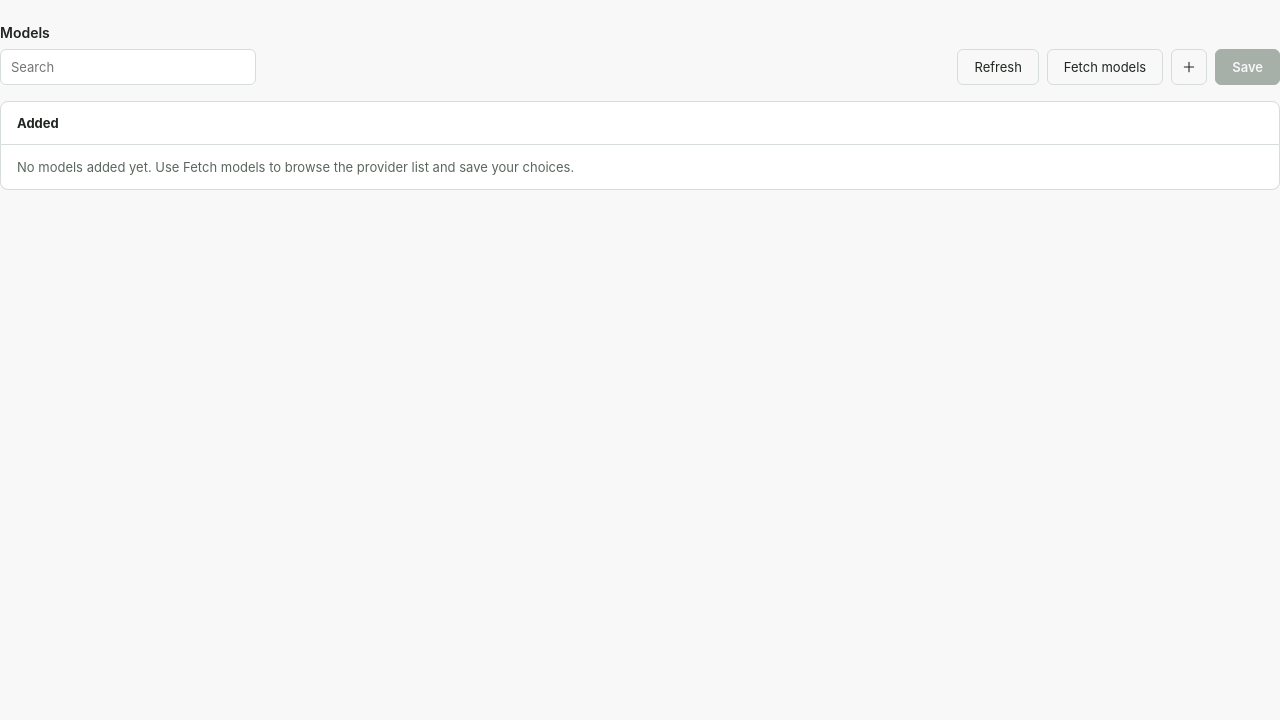
Test case: manual addition from upstream browse is saved and visible in added models
The image size is (1280, 720).
Click the button "Fetch models". click: (1105, 67)
box: x1=1047 y1=49 x2=1163 y2=85
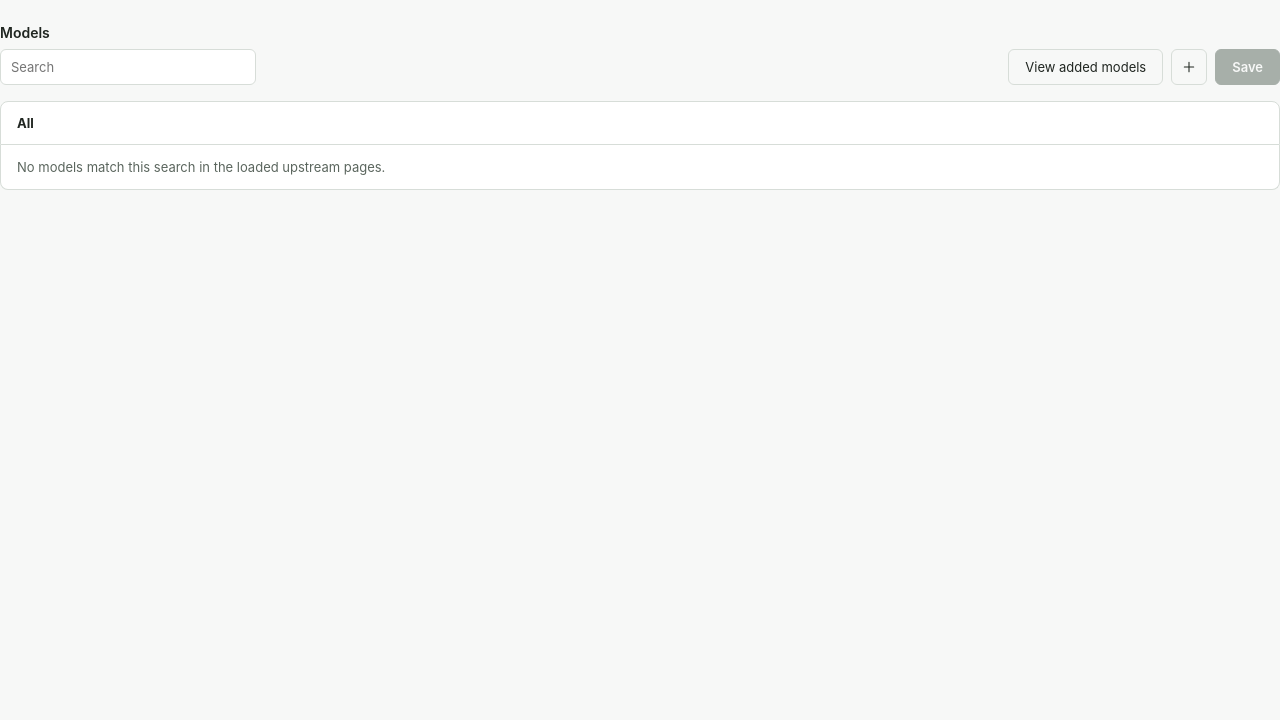
Check: the button "View added models" is shown, box x1=1008 y1=49 x2=1163 y2=85
Click the button named "Add a model manually". click: (1189, 67)
box: x1=1171 y1=49 x2=1207 y2=85
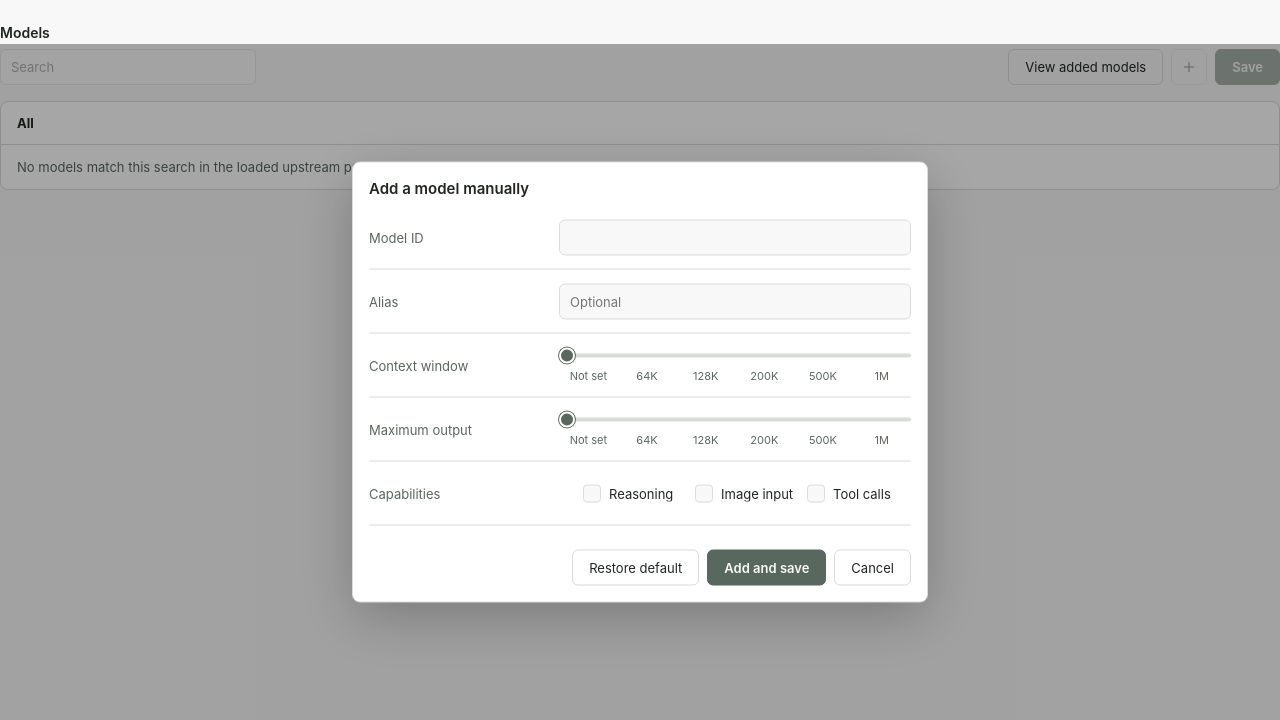
Type "vendor/manual" into the field labelled "Model ID". click: (735, 238)
box: x1=559 y1=220 x2=911 y2=256
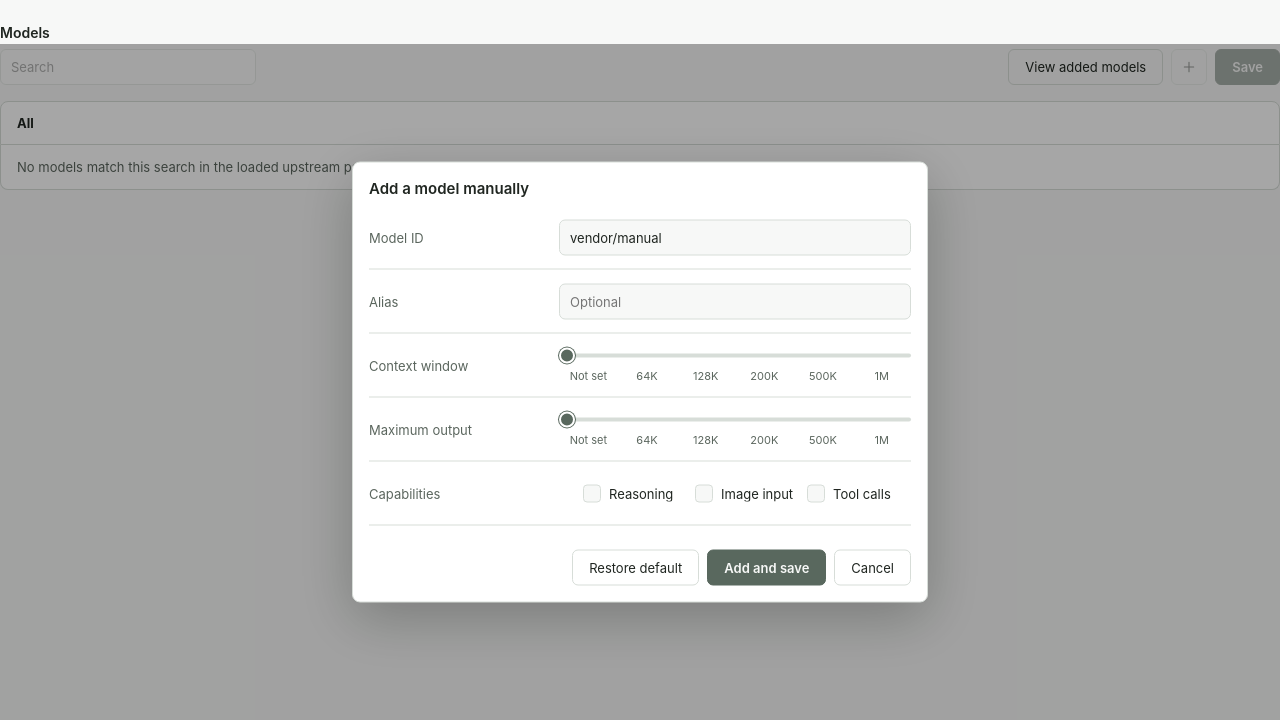
Type "Work" into the field labelled "Alias". click: (735, 302)
box: x1=559 y1=284 x2=911 y2=320
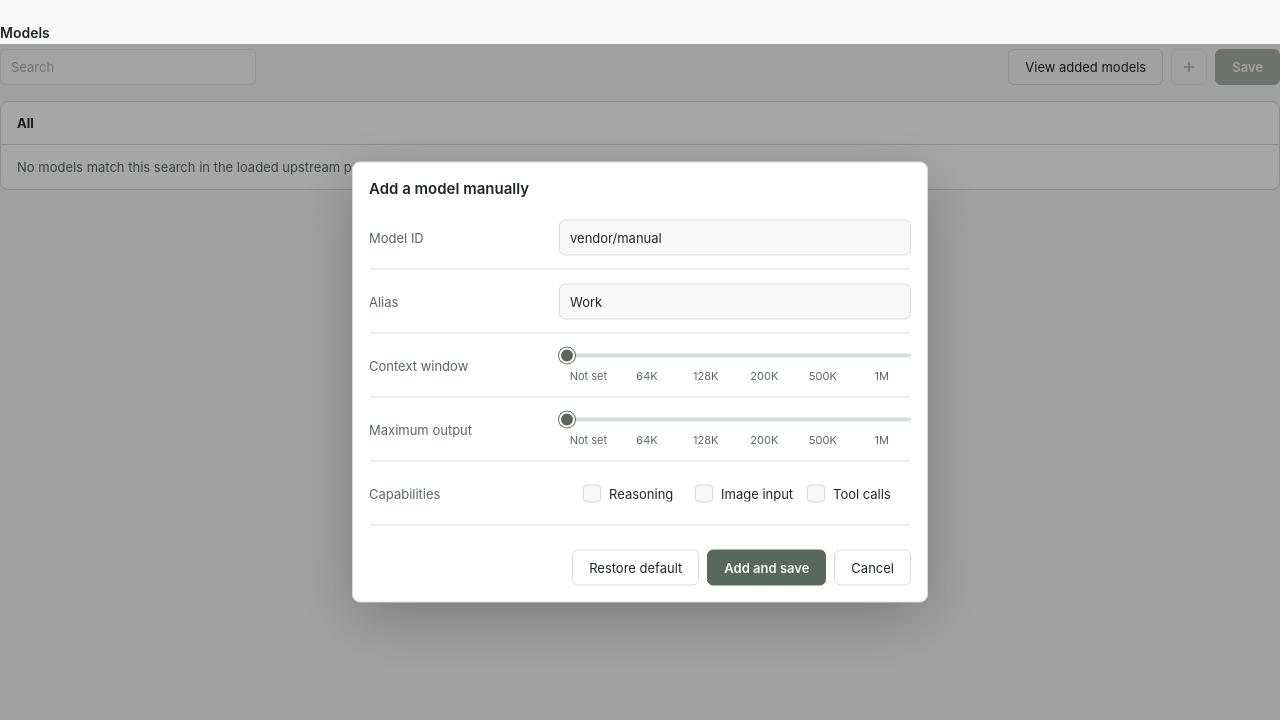
Click the button "Add and save". click: (767, 568)
box: x1=707 y1=550 x2=826 y2=586
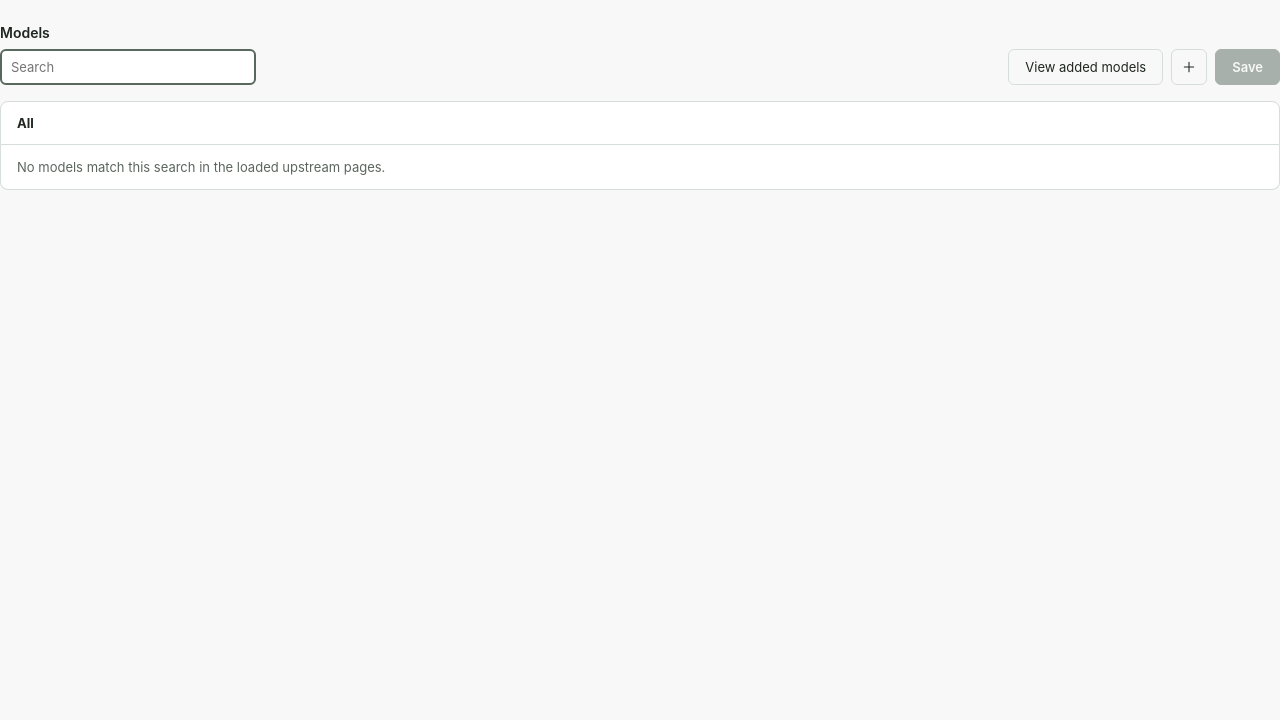
Check: the dialog is gone
Click the button "View added models". click: (1086, 67)
box: x1=1008 y1=49 x2=1163 y2=85
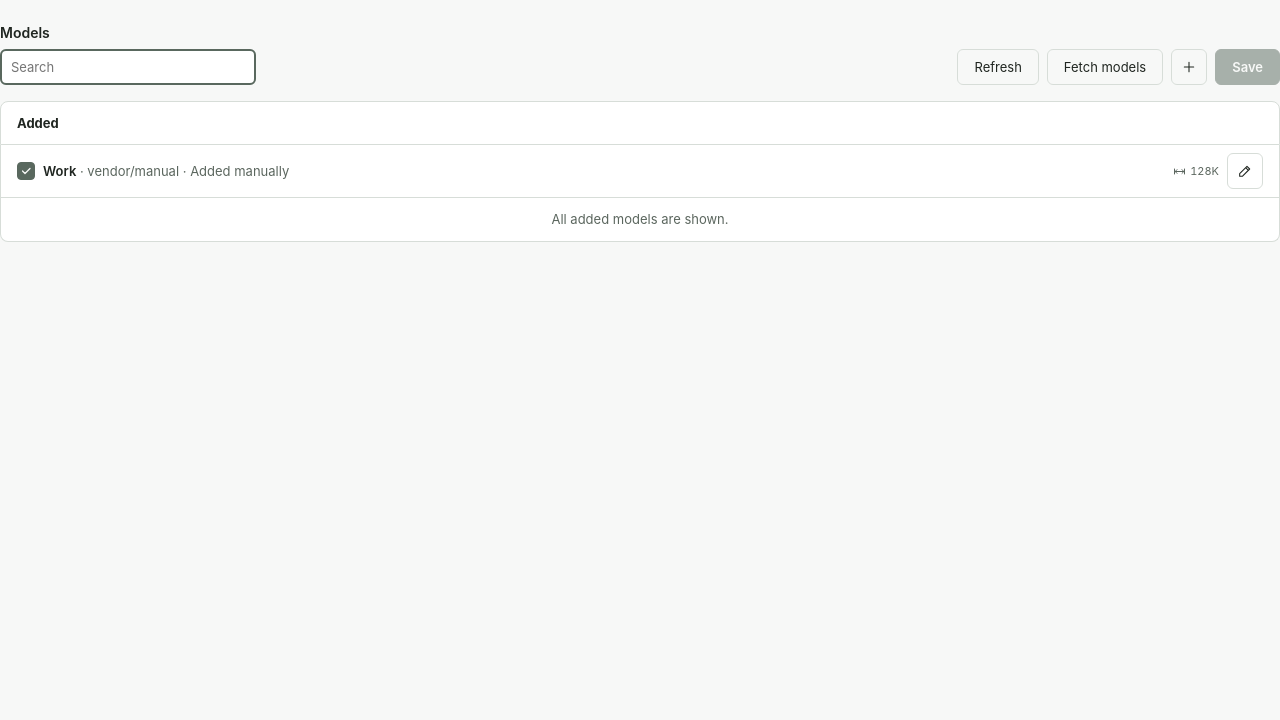
Check: the checkbox named "Deselect vendor/manual" is shown, box x1=17 y1=162 x2=35 y2=180
